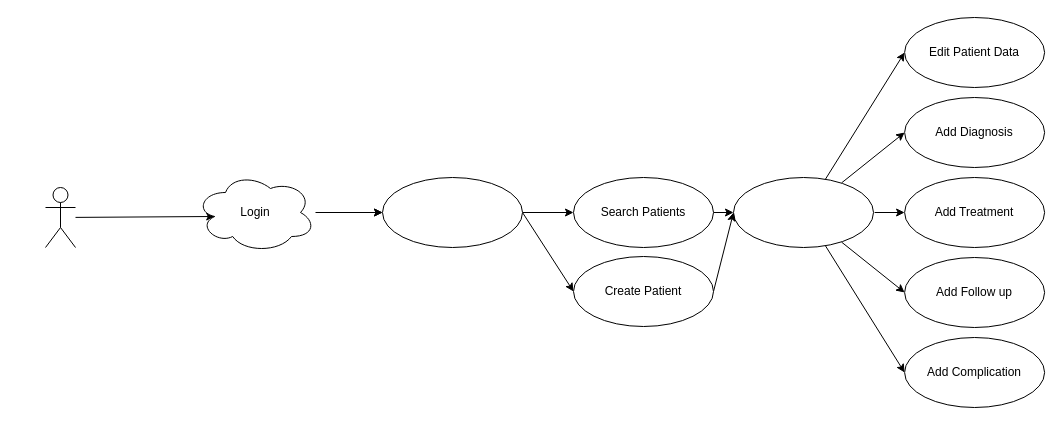
The diagram is 1063 pixels wide and 425 high, and some of its shapes have lost their labels. Here are the shapes that lost their labels. From the top down, the centre of each, then its label:
[60,217]: Consultants and Team Members
[452,212]: View Team Dashboard
[803,212]: View Patient
